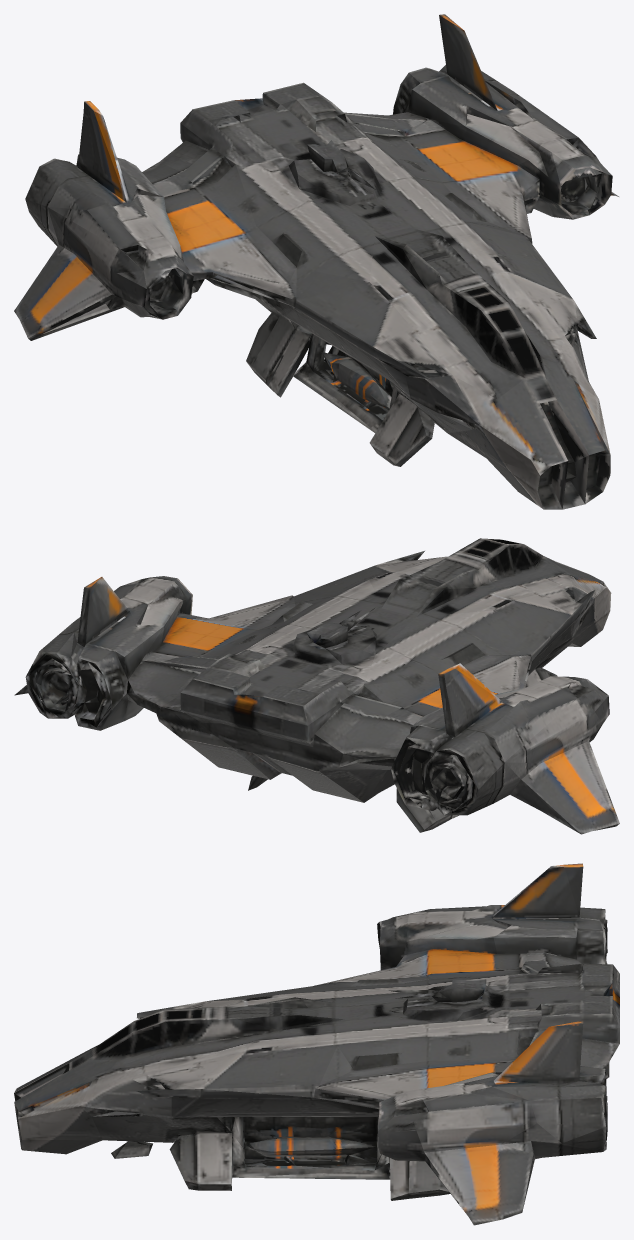
Rendered from hard-2000.glb.
3 renders of one model, top to bottom at view 1: azimuth 30°, elevation 25°; view 2: azimuth 150°, elevation 25°; view 3: azimuth 270°, elevation 25°, orthographic. The views are drawn at different scales.
Visible parts, largest first — view 1: Low; view 2: Low; view 3: Low.
Boxes of the visible parts, <box> form: Low: <box>14,14,618,509</box>; Low: <box>14,538,619,834</box>; Low: <box>14,863,619,1225</box>.
Bounding box in the file's own units: 0.9788 × 0.3809 × 0.9593.
Materials: 1 (1 with a texture image).
